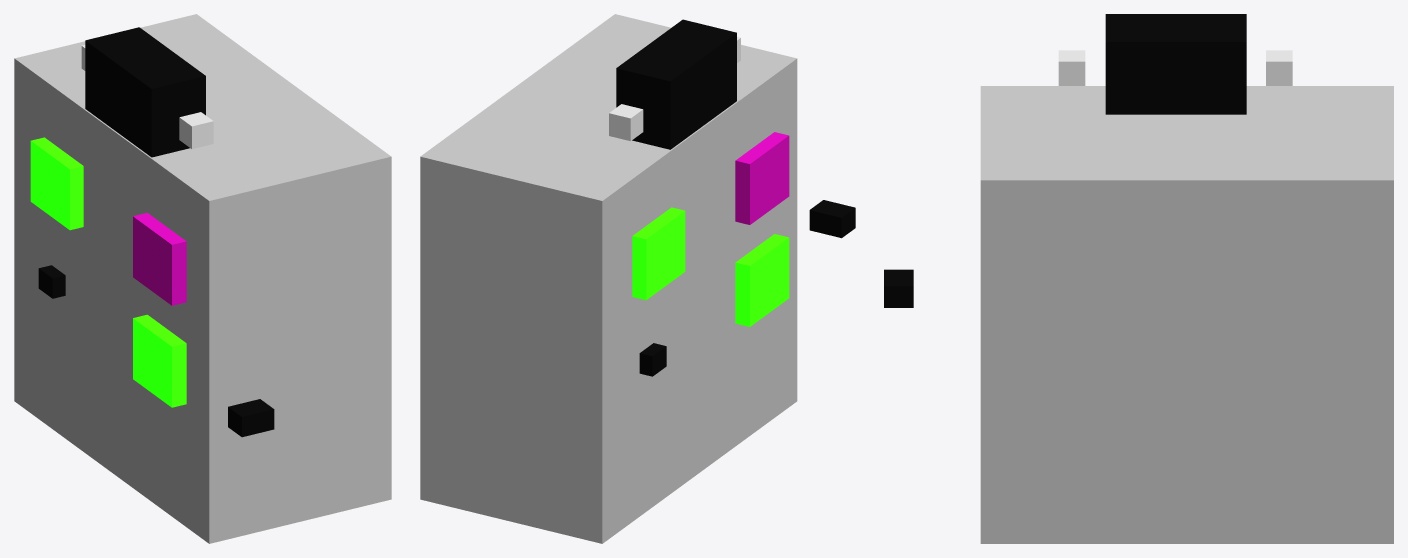
The model's file is CircuitBoard2.fbx.
The picture shows the model from 3 angles, left to right: view 1: azimuth 30°, elevation 25°; view 2: azimuth 150°, elevation 25°; view 3: azimuth 270°, elevation 25°; orthographic projection. The views are drawn at different scales.
Visible parts, largest first — view 1: CircuitBoard2, UI__1_, B2_50v, B1_40v, A1_40v, Slot_C2, Light__1_, Slot_A2; view 2: CircuitBoard2, UI__1_, B2_50v, B1_40v, A1_40v, Slot_C2, Light, Slot_A2; view 3: CircuitBoard2, UI__1_, Slot_C2, Light__1_, Light.
Boxes of the visible parts, left/top/right/bottom form: CircuitBoard2: left=14, top=14, right=391, bottom=543; UI__1_: left=85, top=27, right=205, bottom=157; B2_50v: left=133, top=314, right=186, bottom=407; B1_40v: left=133, top=212, right=186, bottom=305; A1_40v: left=30, top=137, right=83, bottom=230; Slot_C2: left=228, top=399, right=274, bottom=437; Light__1_: left=179, top=112, right=213, bottom=148; Slot_A2: left=38, top=265, right=65, bottom=298; CircuitBoard2: left=420, top=14, right=797, bottom=543; UI__1_: left=616, top=19, right=736, bottom=149; B2_50v: left=735, top=234, right=789, bottom=326; B1_40v: left=735, top=132, right=789, bottom=224; A1_40v: left=632, top=207, right=685, bottom=300; Slot_C2: left=809, top=200, right=855, bottom=238; Light: left=609, top=104, right=643, bottom=141; Slot_A2: left=639, top=343, right=666, bottom=376; CircuitBoard2: left=980, top=86, right=1393, bottom=543; UI__1_: left=1105, top=14, right=1246, bottom=114; Slot_C2: left=884, top=269, right=913, bottom=307; Light__1_: left=1058, top=50, right=1085, bottom=85; Light: left=1266, top=50, right=1292, bottom=85.
Bounding box in the file's own units: 290 × 580 × 614.
